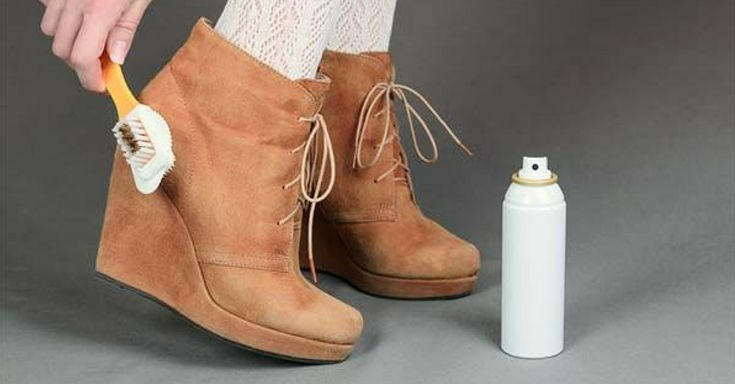gamuza: (93, 17, 479, 363)
